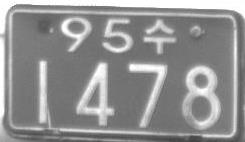1: (28, 60, 61, 123)
4: (76, 61, 114, 125)
5: (101, 18, 134, 53)
7: (128, 62, 168, 129)
8: (181, 64, 222, 130), (60, 15, 92, 52)
수: (143, 18, 176, 54)
